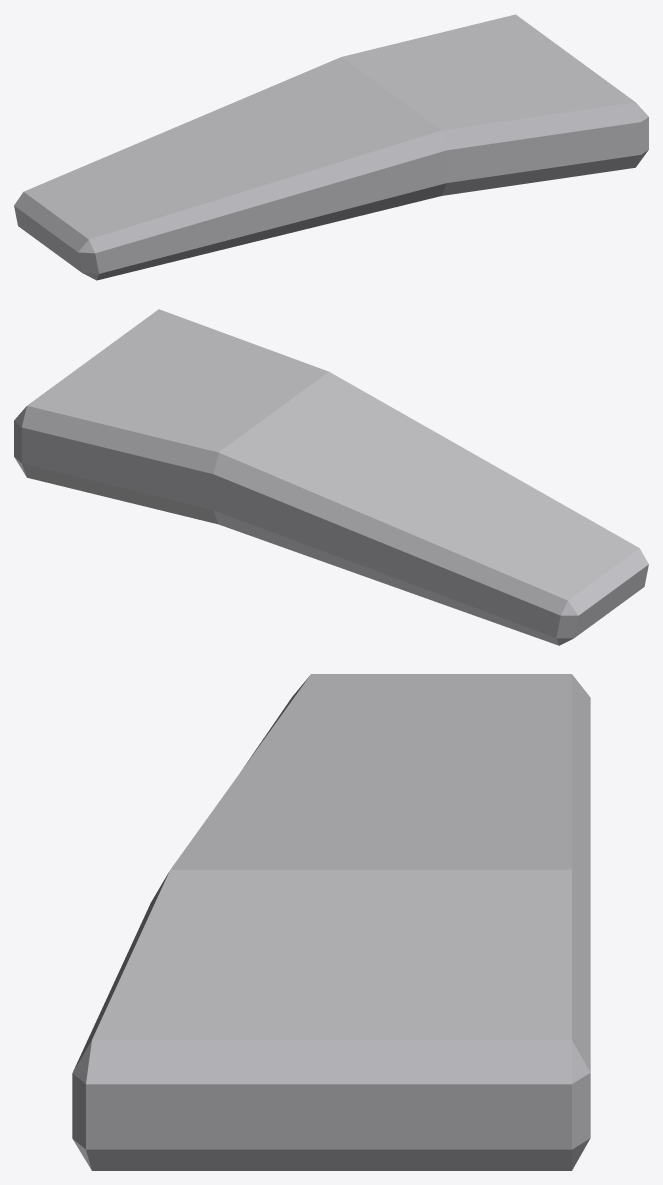
Rendered from Personal_Vehicle_03_Wings_Right.fbx.
3 views of the same model, one above another, from view 1: azimuth 30°, elevation 25°; view 2: azimuth 150°, elevation 25°; view 3: azimuth 270°, elevation 25° (orthographic). The views are drawn at different scales.
Visible parts, largest first — view 1: Personal_Vehicle_03_Wings_Right; view 2: Personal_Vehicle_03_Wings_Right; view 3: Personal_Vehicle_03_Wings_Right.
Boxes of the visible parts, x1=… form: Personal_Vehicle_03_Wings_Right: x1=14, y1=14, x2=648, y2=280; Personal_Vehicle_03_Wings_Right: x1=14, y1=309, x2=648, y2=645; Personal_Vehicle_03_Wings_Right: x1=72, y1=674, x2=590, y2=1170.
Size of the model in its own units: 76.65 by 14.31 by 33.49.
1 material, 1 textured.
